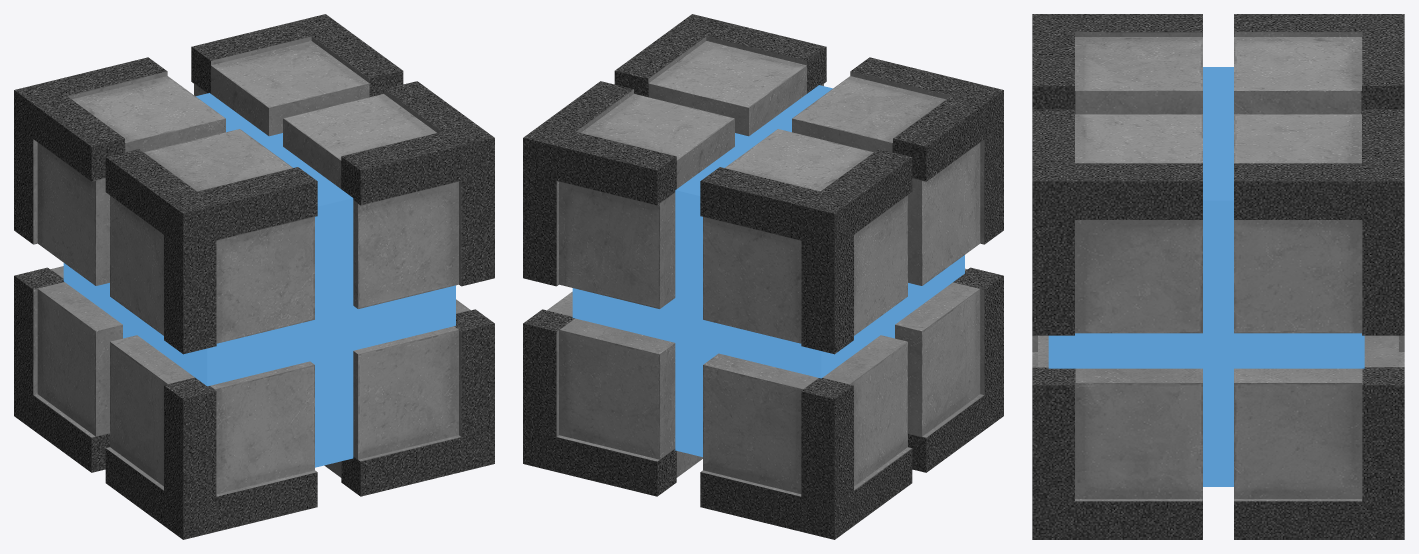
The model's file is EisReact.gltf.
3 renders of one model, left to right at view 1: azimuth 30°, elevation 25°; view 2: azimuth 150°, elevation 25°; view 3: azimuth 270°, elevation 25°, orthographic. The views are drawn at different scales.
Visible parts, largest first — view 1: cubeMetal, Core; view 2: cubeMetal, Core; view 3: cubeMetal, Core.
Boxes of the visible parts, <box> form: cubeMetal: <box>14,14,494,539</box>; Core: <box>63,93,455,467</box>; cubeMetal: <box>523,14,1003,539</box>; Core: <box>572,85,964,456</box>; cubeMetal: <box>1032,14,1404,539</box>; Core: <box>1048,67,1364,486</box>.
Bounding box in the file's own units: 0.836 × 0.836 × 0.786.
2 materials, 1 textured.
